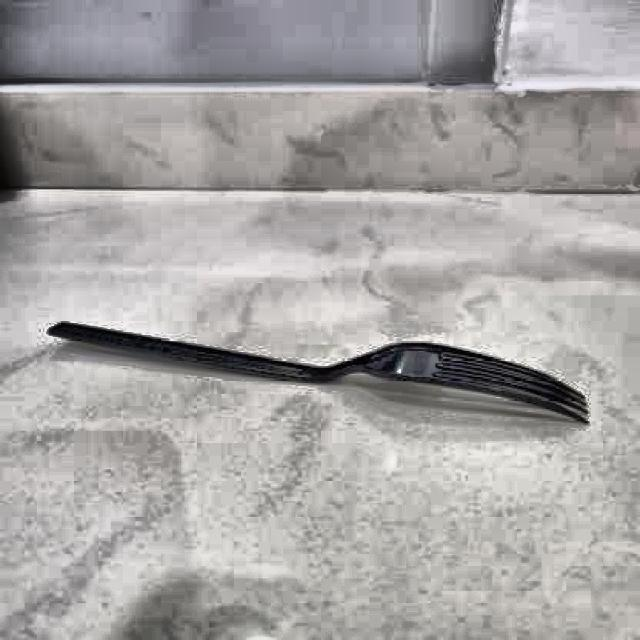plastic utensil: (46, 304, 595, 434)
